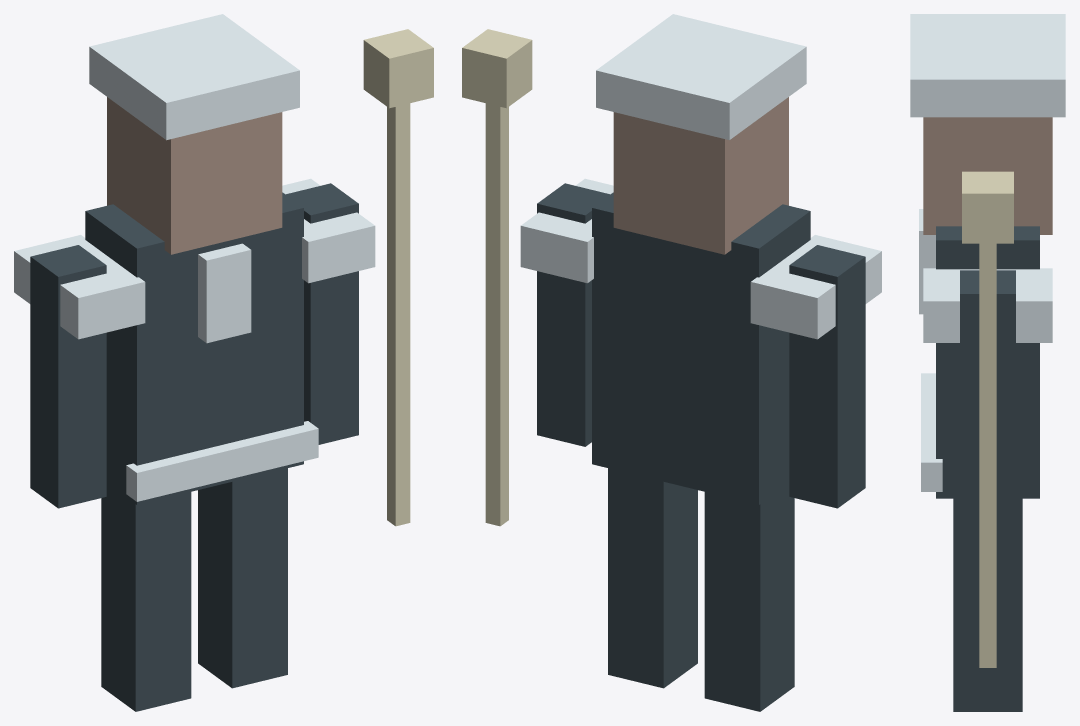
File: 03_nix_emberkin_archivist_from_prototype.glb
The picture shows the model from 3 angles, left to right: view 1: azimuth 30°, elevation 25°; view 2: azimuth 150°, elevation 25°; view 3: azimuth 270°, elevation 25°; orthographic projection.
Visible parts, largest first — view 1: Nix Emberkin, Archivist from Prototype; view 2: Nix Emberkin, Archivist from Prototype; view 3: Nix Emberkin, Archivist from Prototype.
Part boxes in pixels (box(x1,y1,x2,y2)): Nix Emberkin, Archivist from Prototype: box(14, 14, 433, 711); Nix Emberkin, Archivist from Prototype: box(462, 14, 881, 711); Nix Emberkin, Archivist from Prototype: box(910, 14, 1065, 711).
Size of the model in its own units: 0.9708 by 1.53 by 0.3443.
